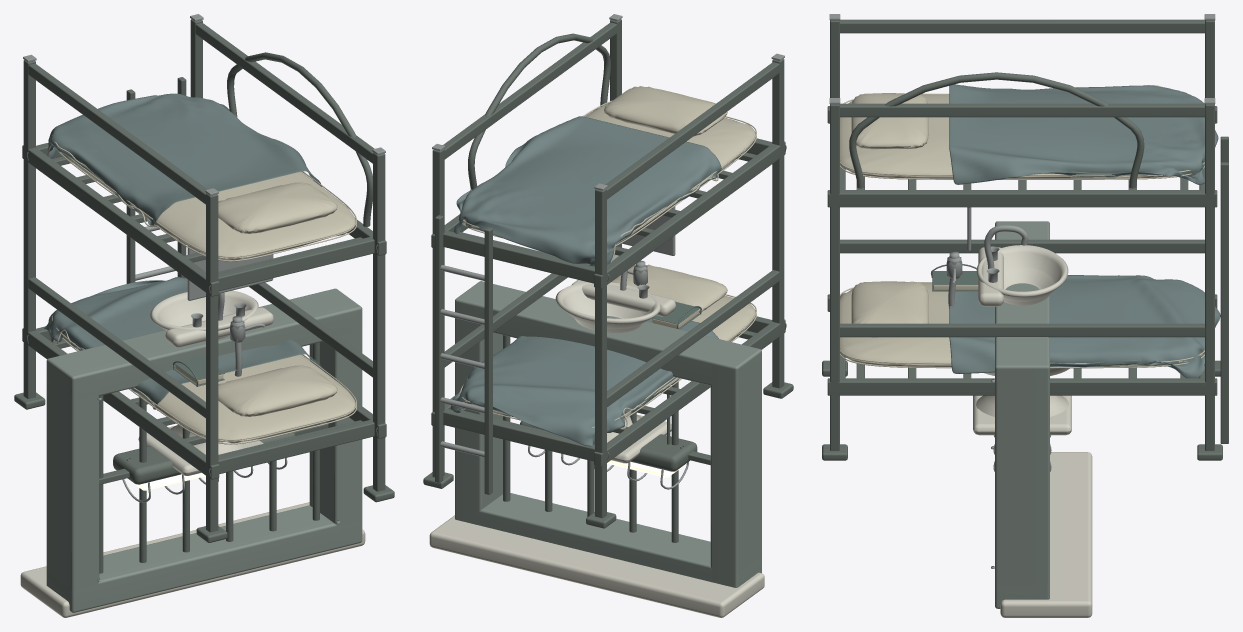
The model's file is cell-props.glb.
3 renders of one model, left to right at view 1: azimuth 30°, elevation 25°; view 2: azimuth 150°, elevation 25°; view 3: azimuth 270°, elevation 25°, orthographic. The views are drawn at different scales.
Visible parts, largest first — view 1: BunkMesh, WindowMesh, SinkMesh, LuminaireMesh, ToiletMesh; view 2: BunkMesh, WindowMesh, SinkMesh, LuminaireMesh, ToiletMesh; view 3: BunkMesh, WindowMesh, SinkMesh, ToiletMesh.
Part boxes in pixels (x1,y1,x2,y2): BunkMesh: (14, 14, 394, 542); WindowMesh: (20, 288, 365, 617); SinkMesh: (150, 246, 273, 347); LuminaireMesh: (113, 432, 295, 502); ToiletMesh: (138, 316, 264, 475); BunkMesh: (423, 14, 793, 528); WindowMesh: (429, 281, 764, 617); SinkMesh: (555, 206, 675, 332); LuminaireMesh: (520, 386, 697, 489); ToiletMesh: (607, 260, 671, 463); BunkMesh: (822, 14, 1228, 460); WindowMesh: (991, 221, 1092, 617); SinkMesh: (967, 207, 1068, 306); ToiletMesh: (946, 251, 1071, 435).
Bounding box in the file's own units: 1.96 × 3.08 × 2.21.
